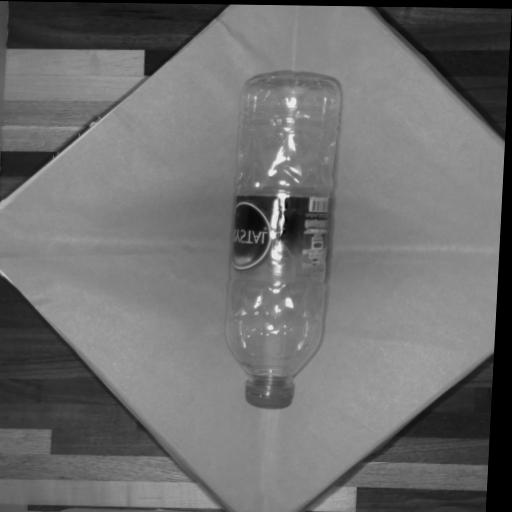bottle: (227, 76, 340, 407)
